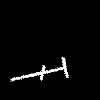double_crochet: (11, 57, 68, 80)
